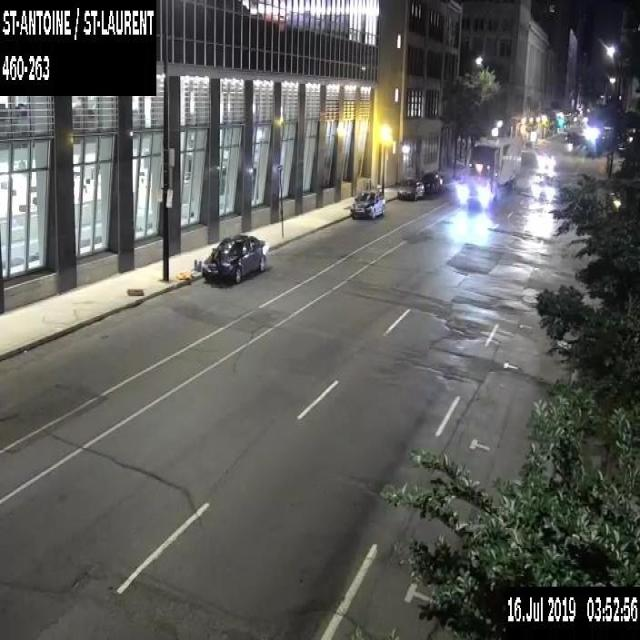construction: (174, 258, 201, 279)
vehicle: (462, 134, 521, 203), (202, 232, 267, 284), (349, 188, 385, 217), (396, 177, 425, 199), (421, 171, 443, 193), (534, 179, 552, 199), (540, 152, 556, 168)
